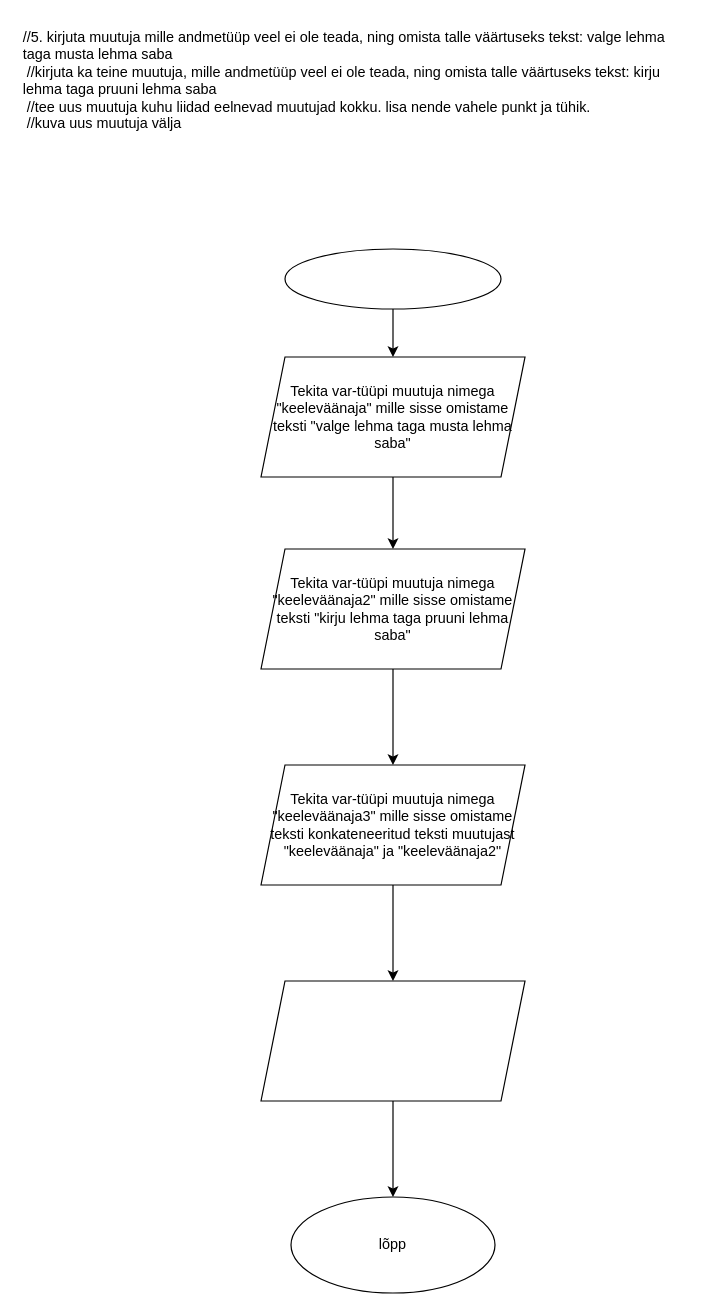
The diagram is 713 pixels wide and 1314 high, and some of its shapes have lost their labels. Each missing label, with the centre of its shape:
Algus: [392,278]
Kuva kasutajale muutuja "keeleväänaja3" välja: [392,1040]
